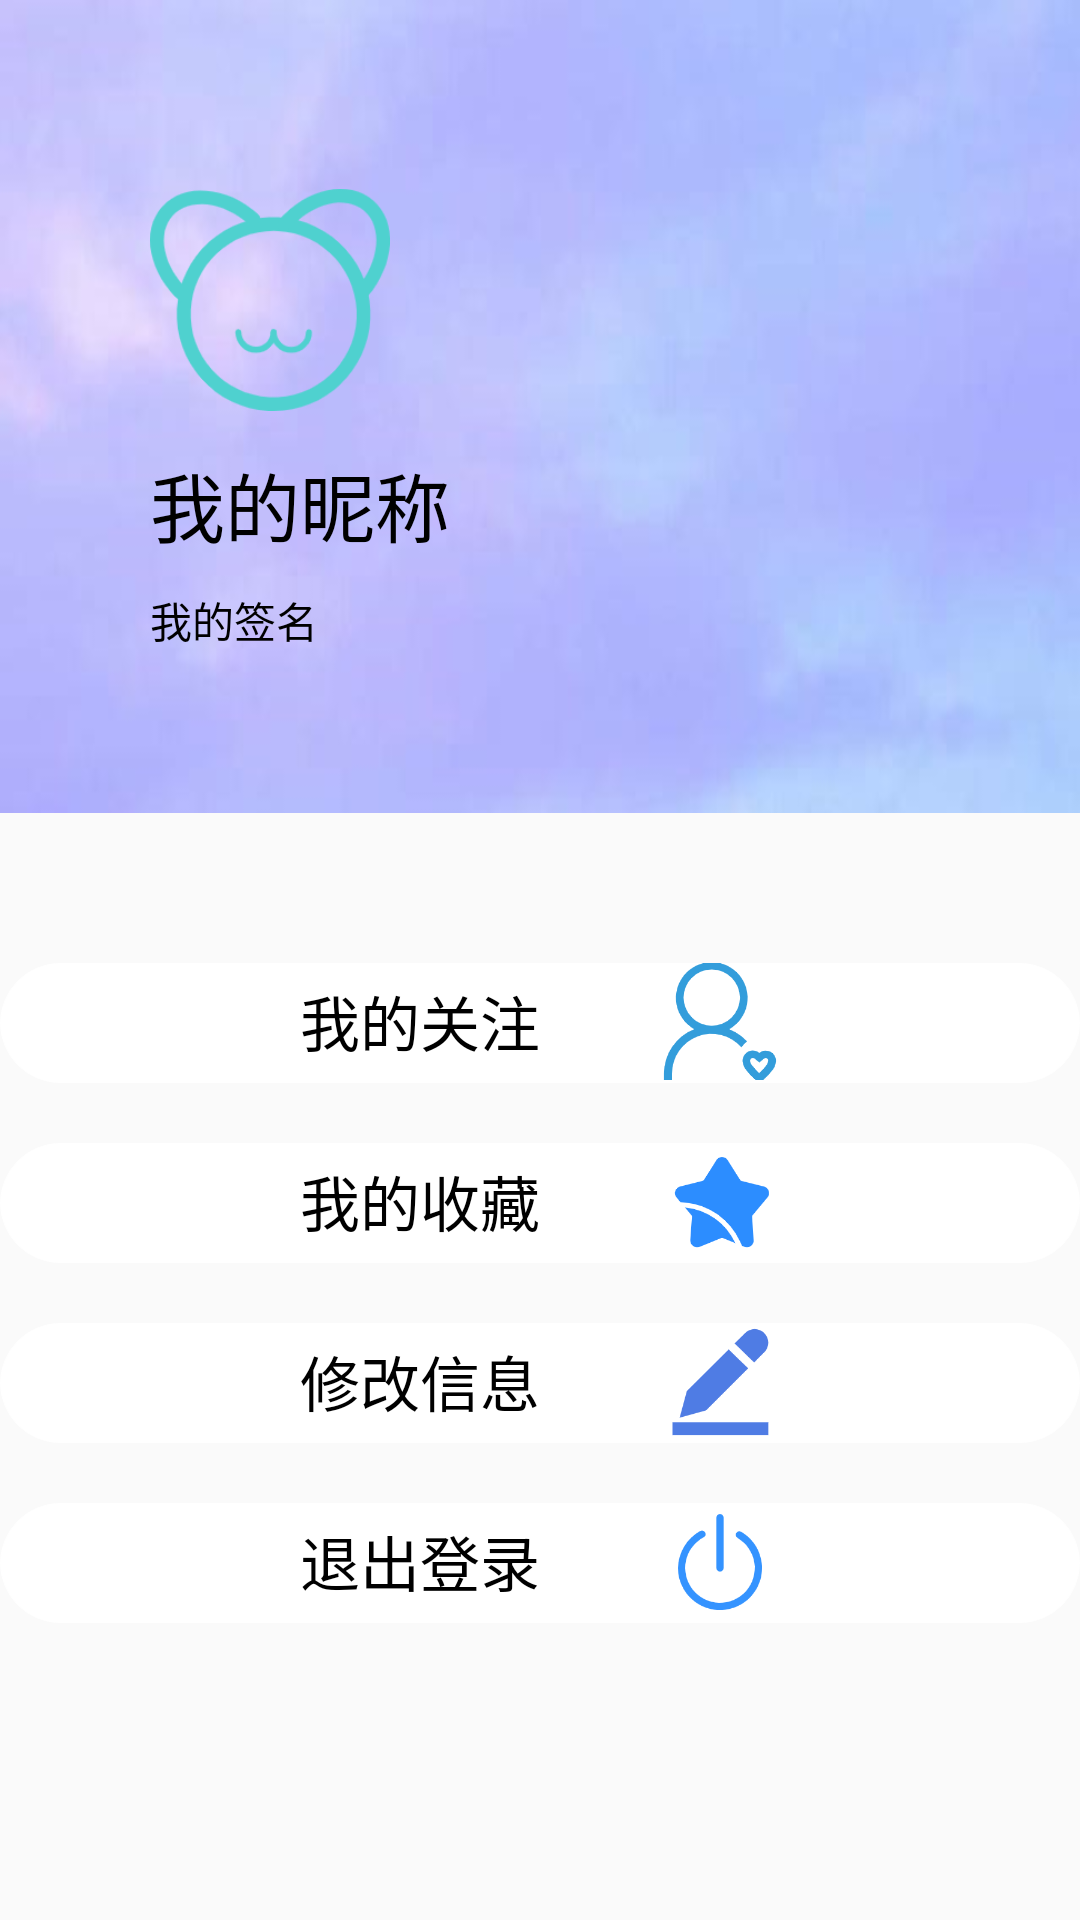

Point at icon controls on the screen. Image size 1080px×1920px, points as point (x, y).
mychange: point (720, 1382)
myguanzhu: point (720, 1021)
myshoucang: point (722, 1202)
mytuichu: point (720, 1562)
